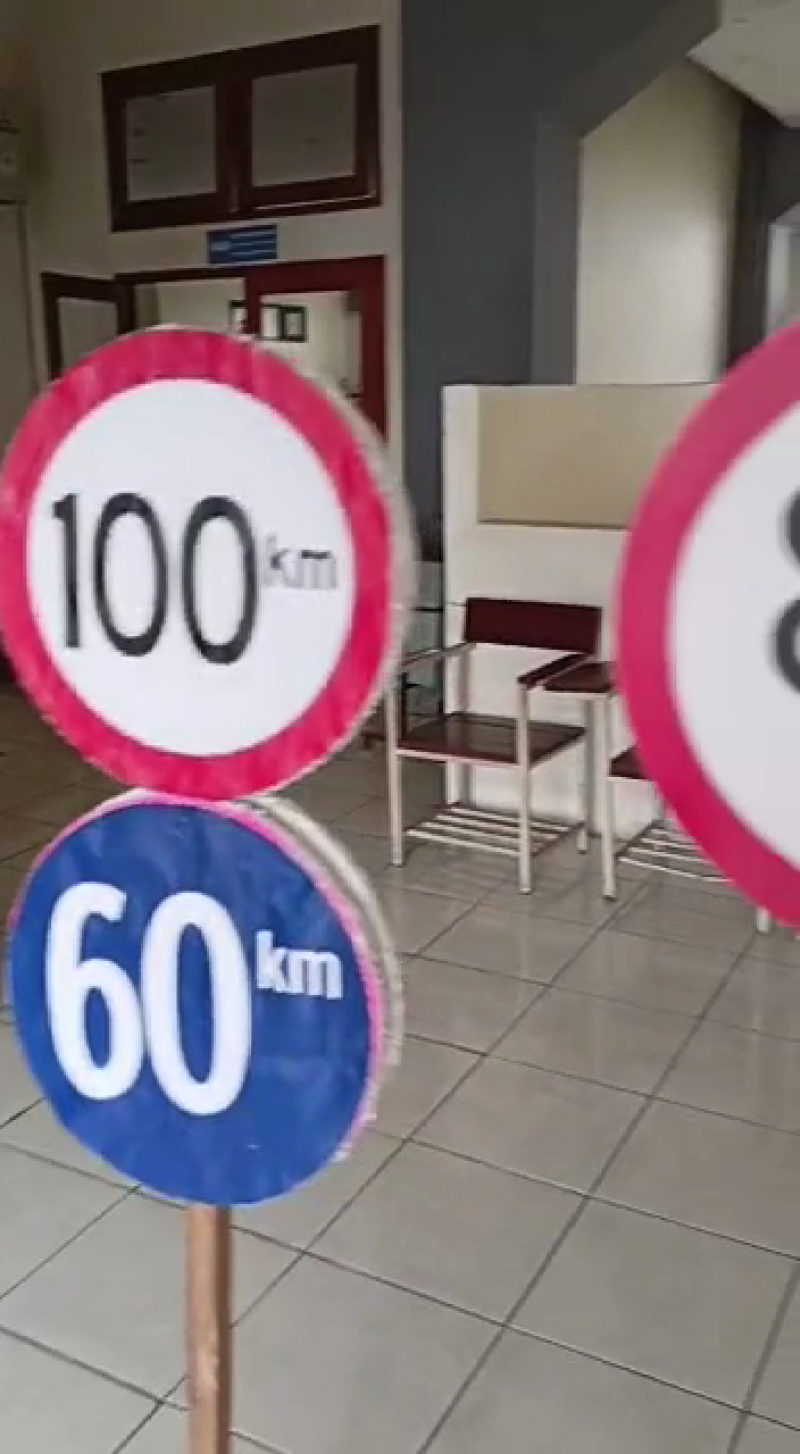batas maksimal 80kmperjam minimal 60kmperjam: (1, 321, 415, 1212)
